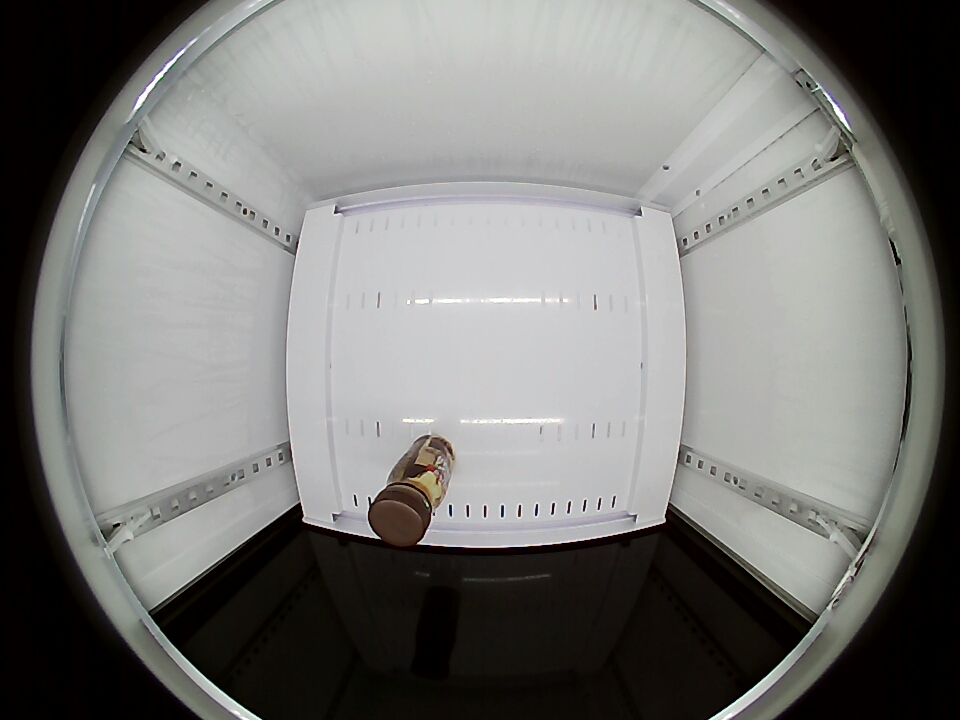lujikafei: (368, 456, 449, 546)
